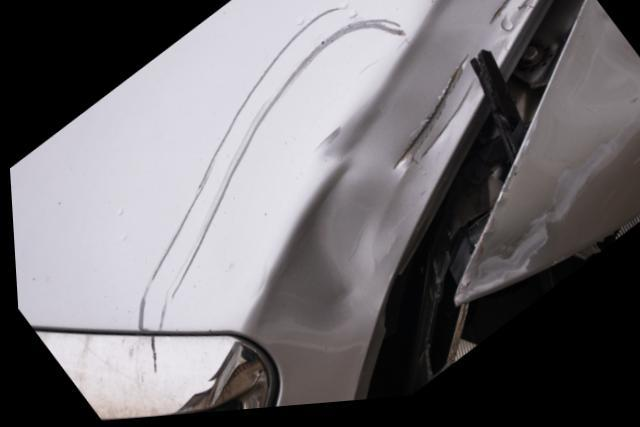dent: (242, 35, 483, 349), (538, 1, 640, 135)
dislocated part: (352, 0, 594, 406)
scratch: (127, 9, 408, 336), (451, 140, 620, 307), (485, 0, 543, 38)
